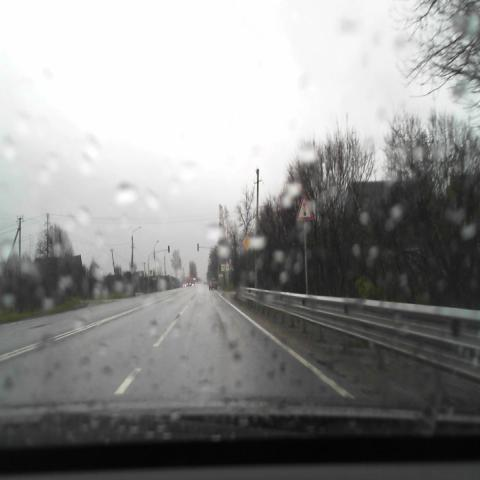1_8: (296, 194, 313, 220)
